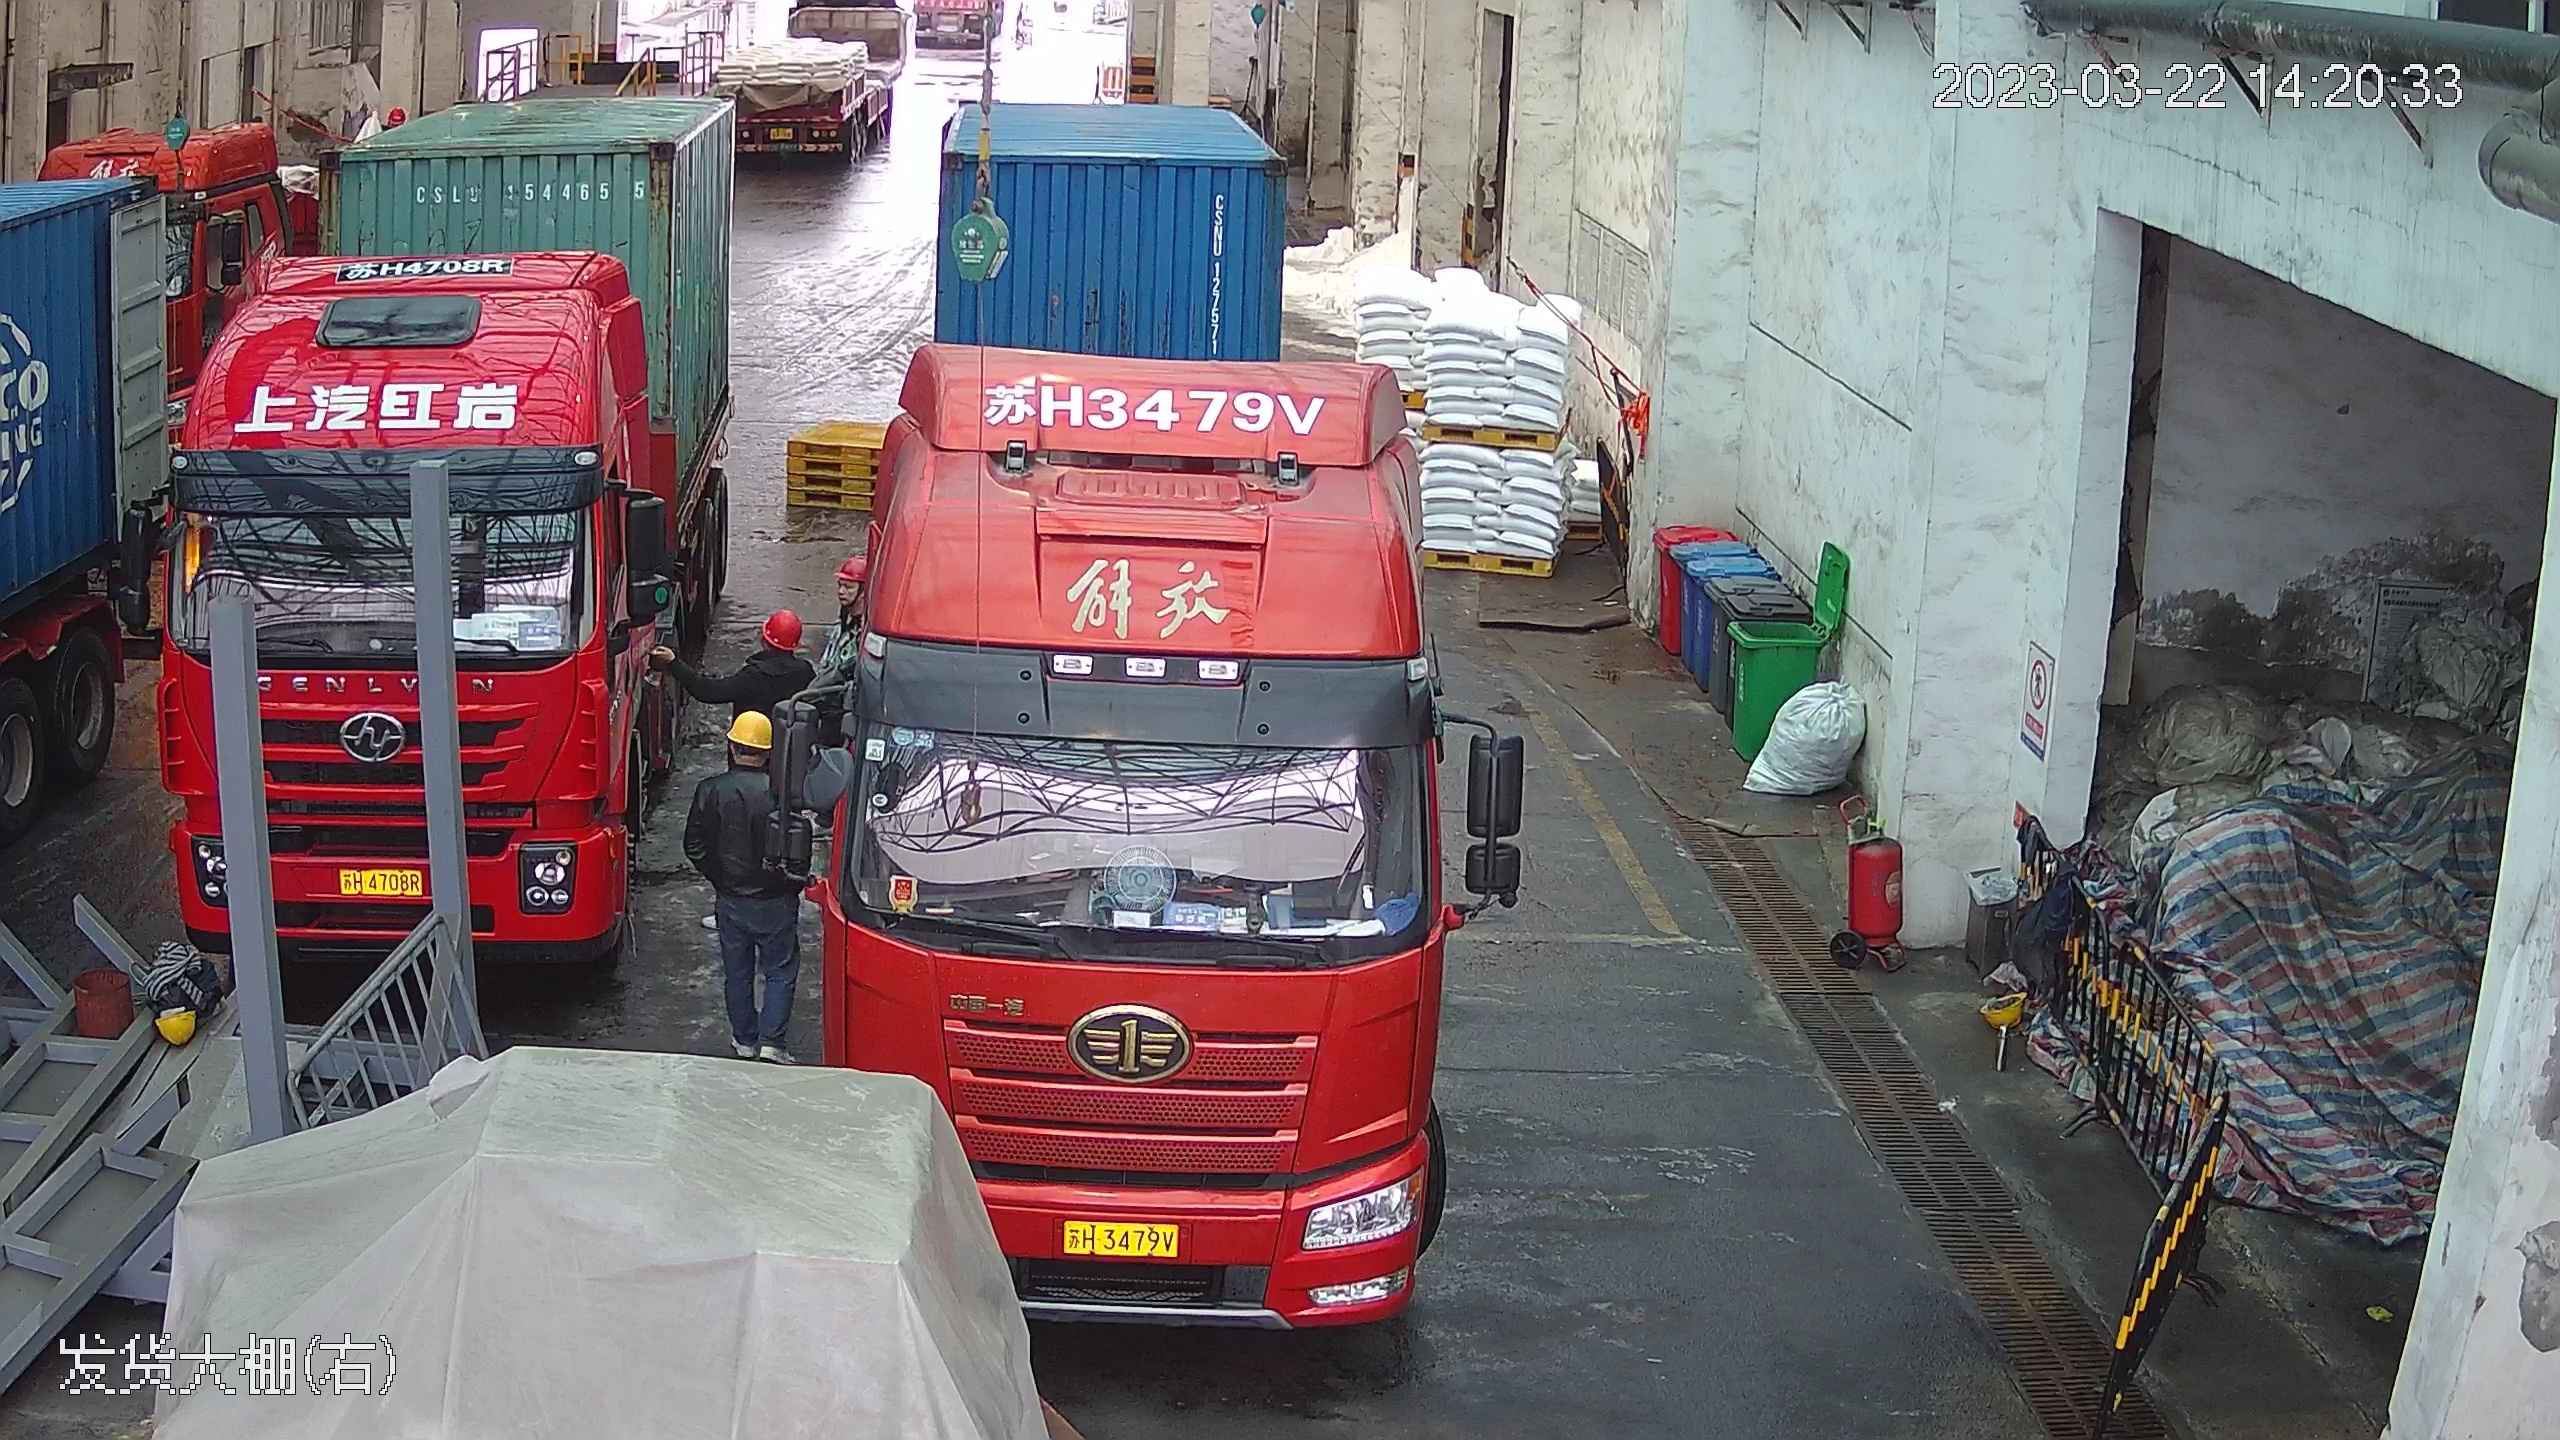head: (695, 710, 787, 815), (736, 606, 814, 690)
helmet: (727, 709, 777, 748), (760, 606, 806, 646), (832, 554, 867, 580)
people: (687, 706, 819, 1062)
truck: (820, 44, 1474, 1324), (148, 50, 750, 969), (2, 119, 297, 849), (713, 13, 906, 175)
